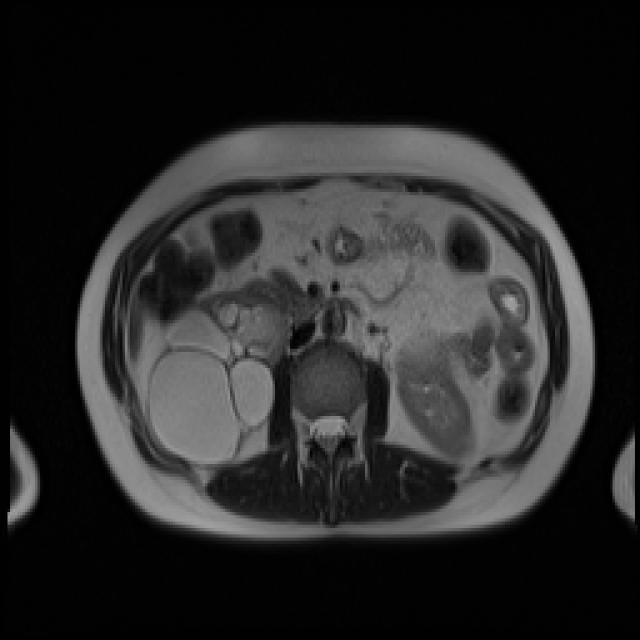sag: (146, 292, 288, 465)
sol: (395, 325, 477, 460)
